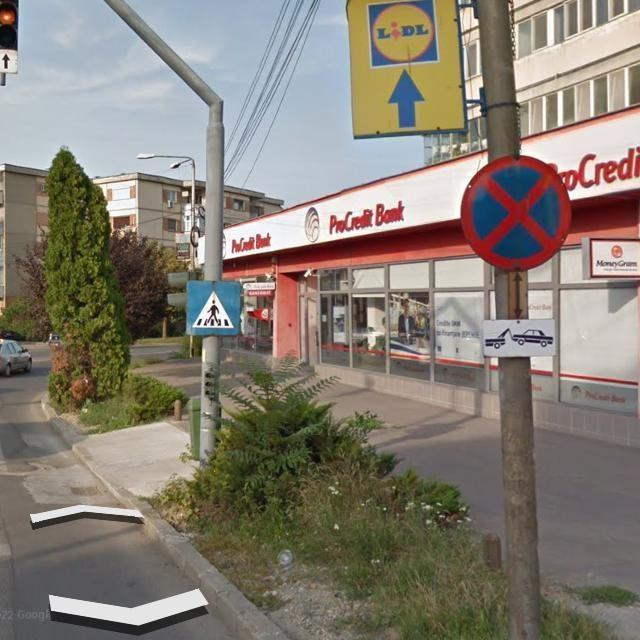forb_waiting: (459, 154, 573, 269)
info_crosswalk: (185, 281, 241, 338)
